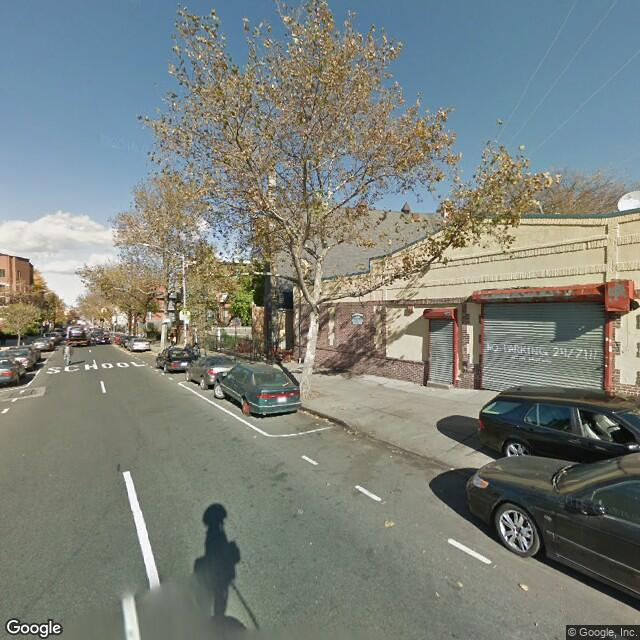litter: (306, 413, 368, 430)
